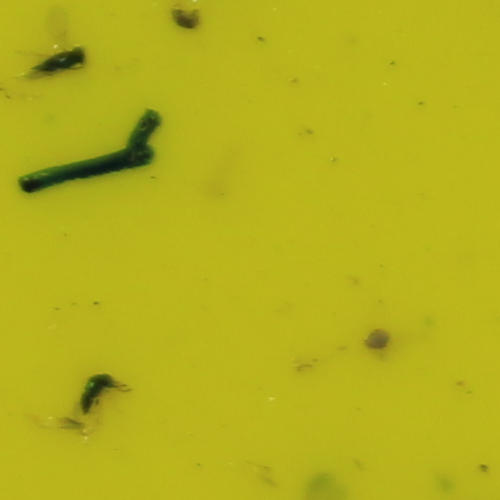Psyllaephagus: (79, 370, 116, 415)
